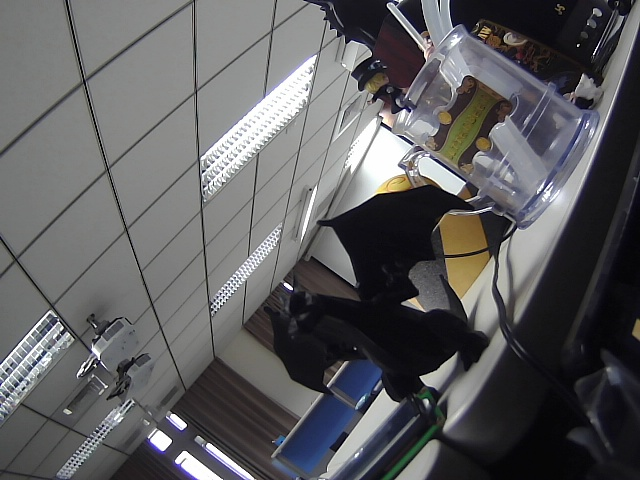charizard: (236, 182, 522, 421)
